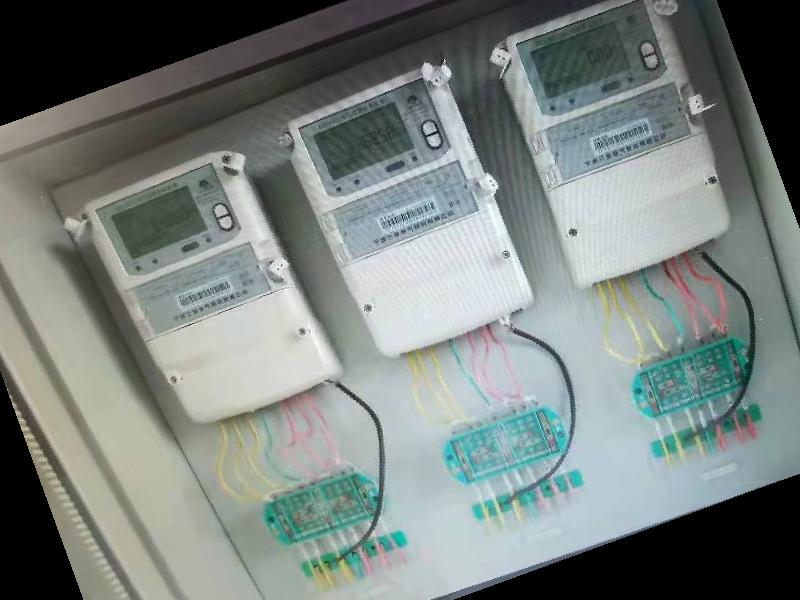digital: (283, 66, 529, 359), (84, 150, 335, 424), (495, 2, 732, 288)
